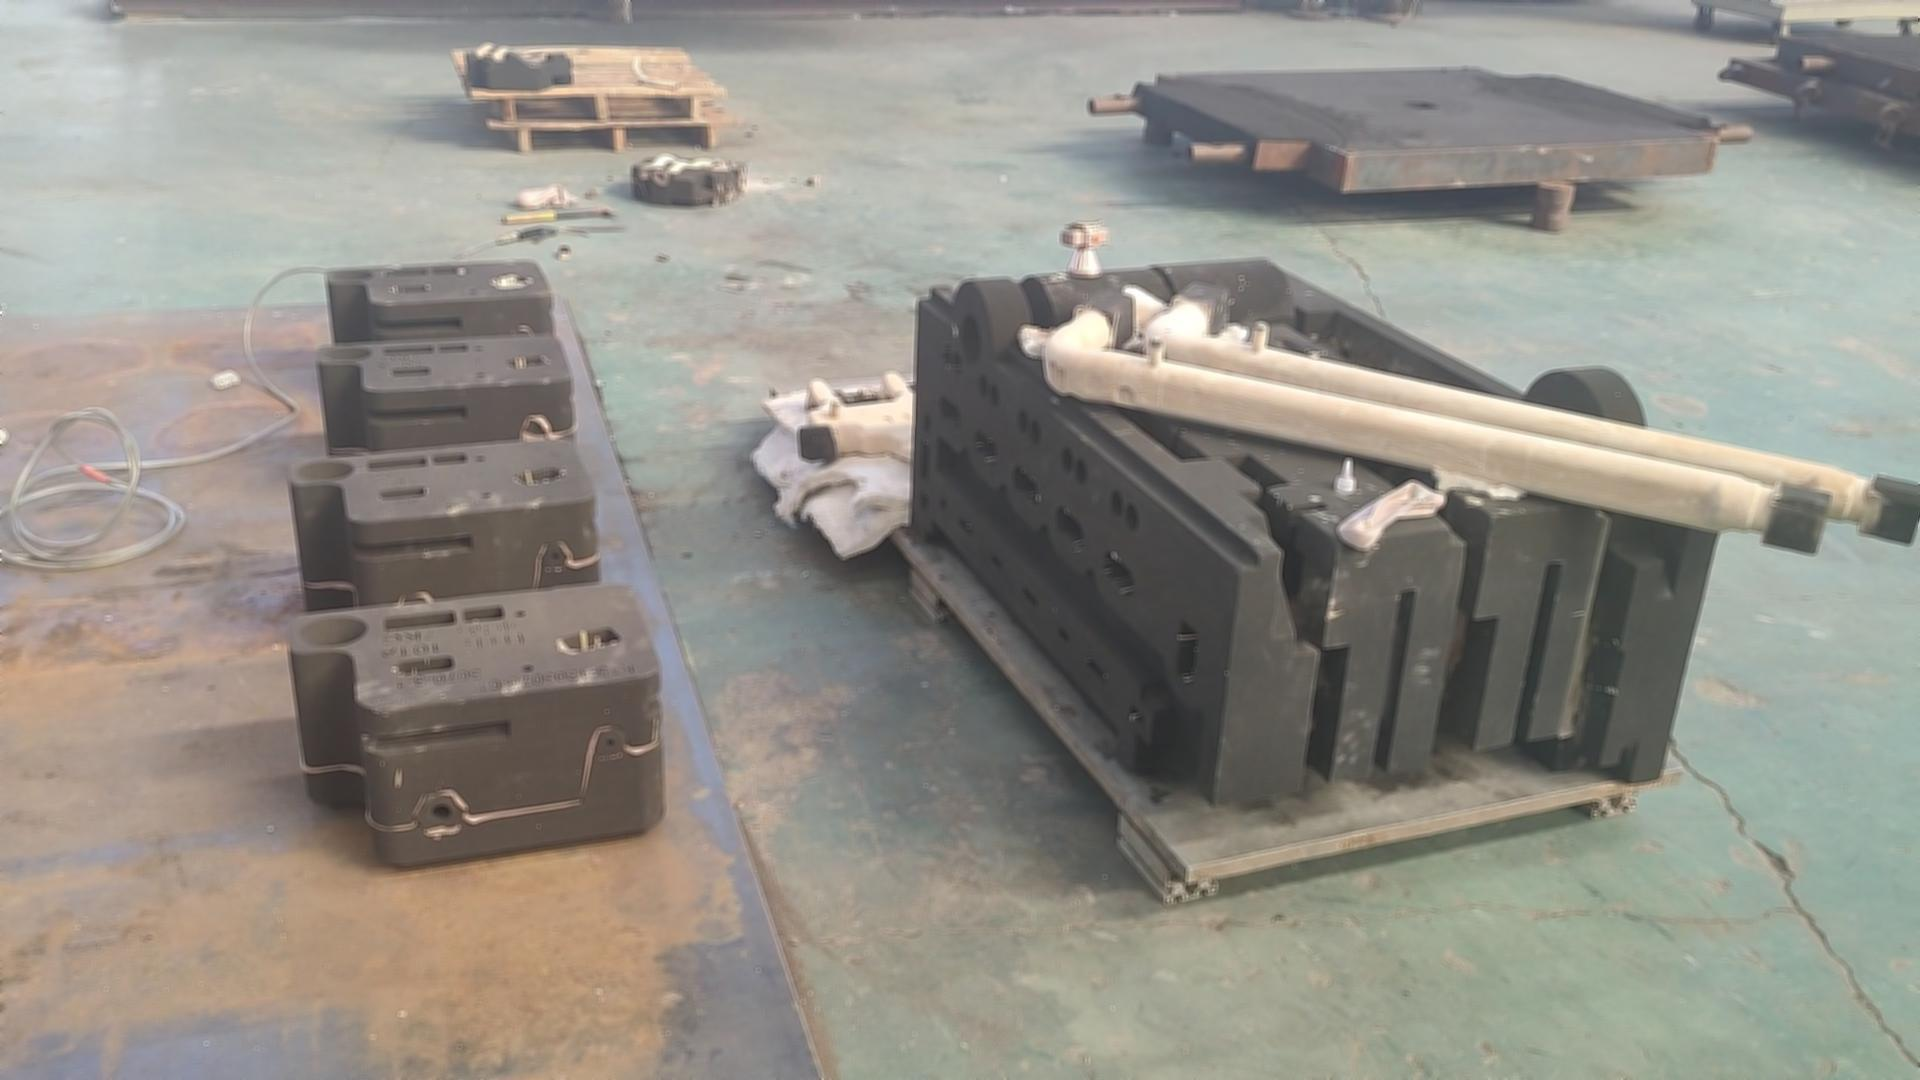pouring hole: (298, 616, 368, 647), (959, 313, 982, 367), (297, 462, 353, 481), (326, 345, 372, 361), (331, 269, 372, 282)
